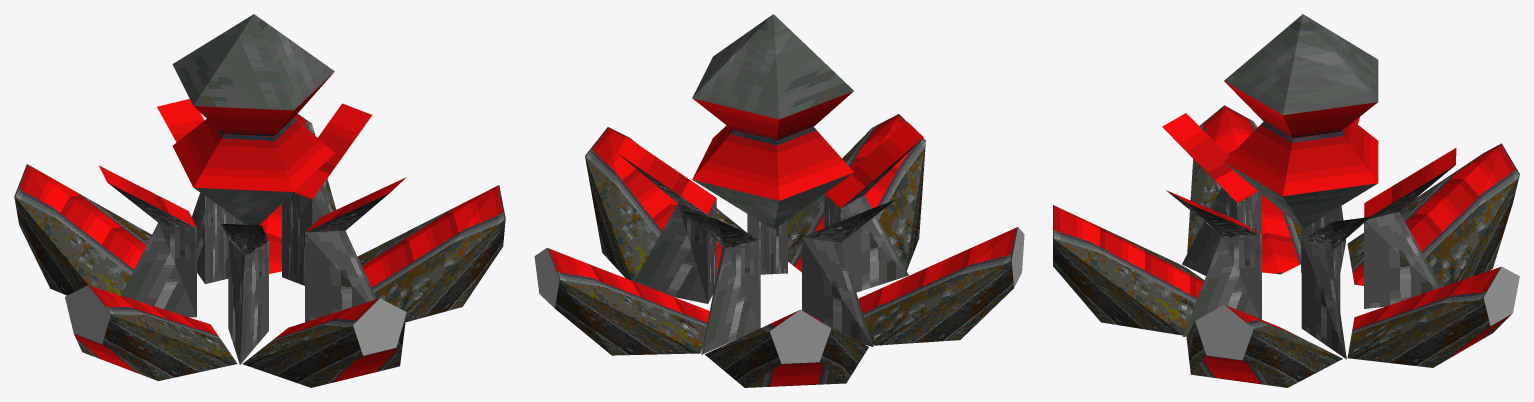
File: model_009_building_reactor.glb
The picture shows the model from 3 angles, left to right: view 1: azimuth 30°, elevation 25°; view 2: azimuth 150°, elevation 25°; view 3: azimuth 270°, elevation 25°; orthographic projection.
Parts seen in each view (by area): view 1: model_105; view 2: model_105; view 3: model_105.
Part boxes in pixels (bbox=[...]): model_105: bbox=[14, 14, 505, 387]; model_105: bbox=[534, 14, 1024, 387]; model_105: bbox=[1053, 14, 1519, 387].
Size of the model in its own units: 20 by 12.9 by 19.02.
Materials: 5 (5 with a texture image).
